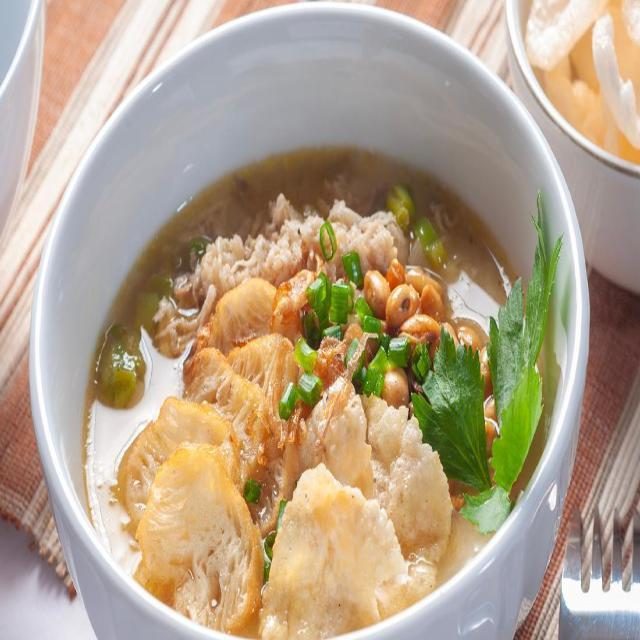bubur ayam: (81, 152, 556, 630)
mangkuk: (24, 3, 590, 631), (504, 0, 640, 295), (0, 0, 46, 245)
